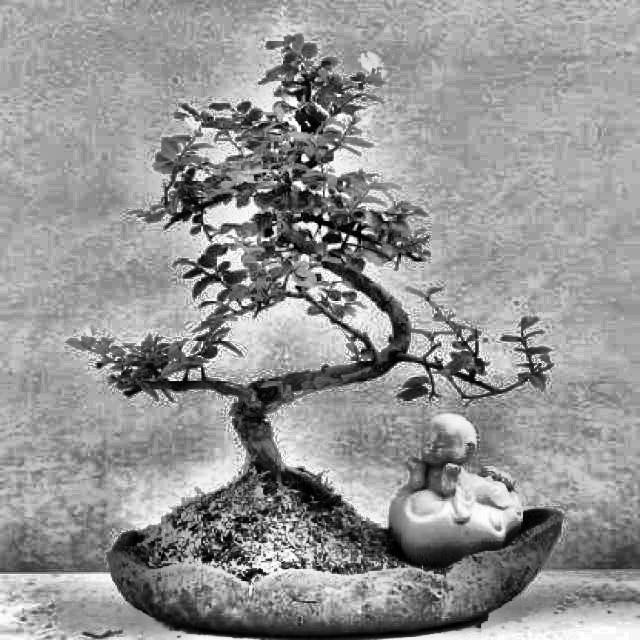plants: (114, 71, 524, 624)
